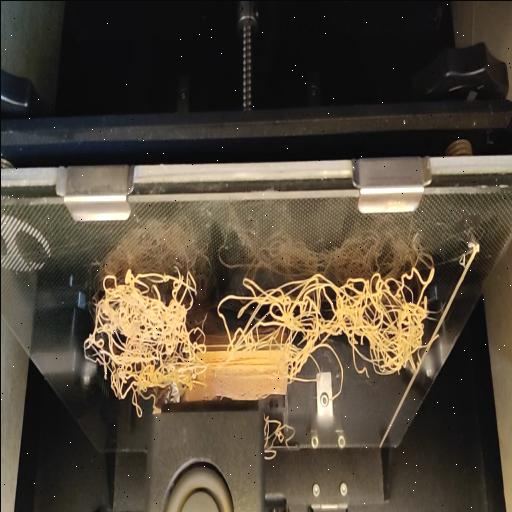spaghetti: (80, 250, 440, 412), (262, 414, 294, 460)
